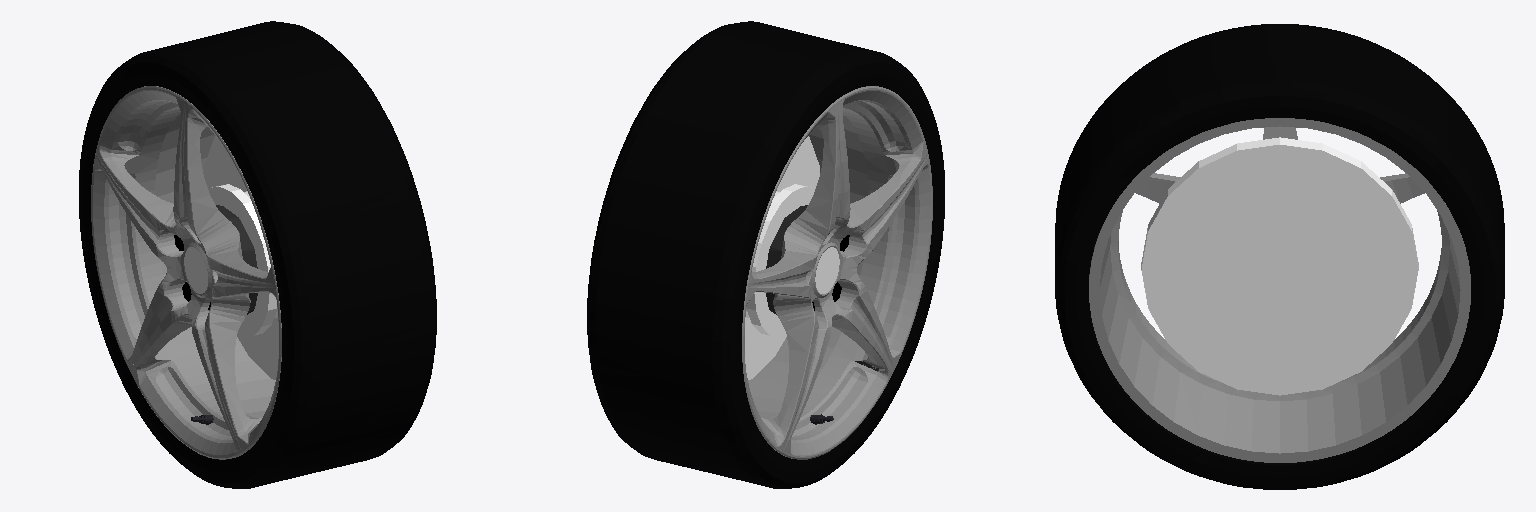
The model's file is tyre.obj.
The picture shows the model from 3 angles: view 1: azimuth 30°, elevation 25°; view 2: azimuth 150°, elevation 25°; view 3: azimuth 270°, elevation 25°; orthographic projection.
Parts seen in each view (by area): view 1: wheel; view 2: wheel; view 3: wheel.
Part boxes in pixels (bbox=[...]): wheel: bbox=[79, 21, 436, 488]; wheel: bbox=[587, 21, 944, 488]; wheel: bbox=[1055, 24, 1504, 489].
Size of the model in its own units: 7224 by 18949 by 18914.